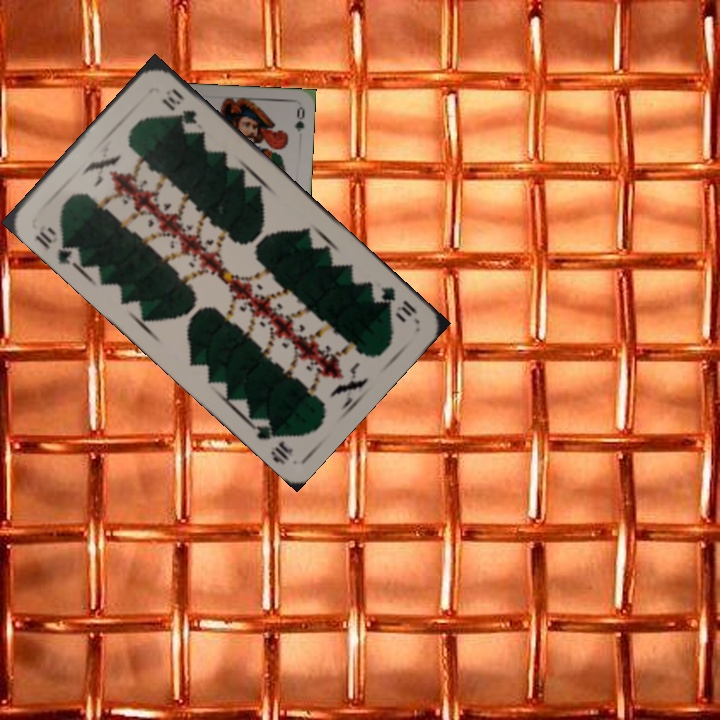G10: (31, 222, 83, 268), (376, 282, 421, 325)
